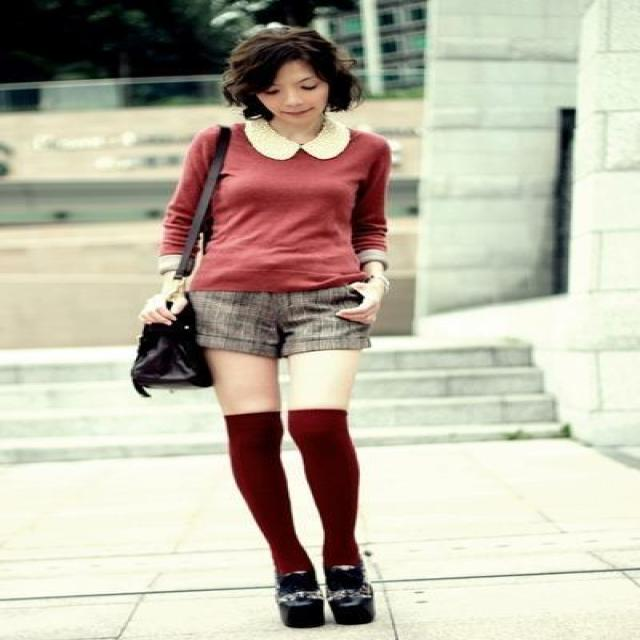bag: (131, 141, 229, 396)
shirt: (163, 103, 389, 304)
shoe: (277, 550, 373, 628)
shorts: (190, 292, 386, 601)
